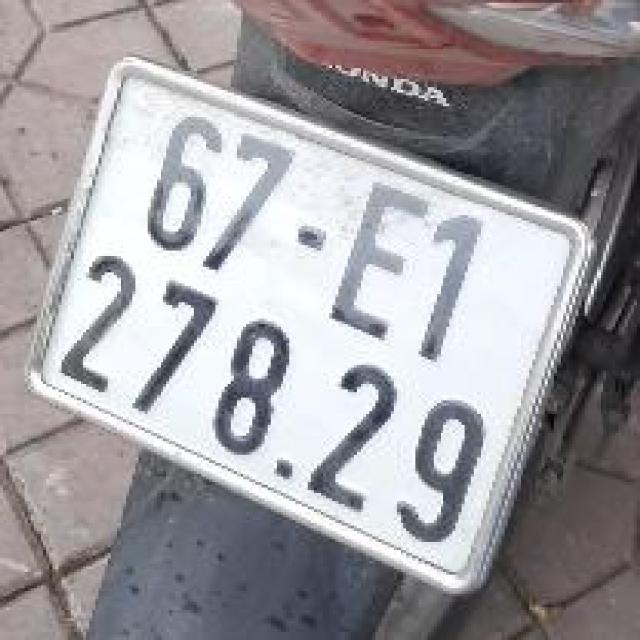1: (391, 192, 508, 379)
2: (293, 341, 423, 528), (48, 245, 155, 412)
6: (126, 99, 236, 266)
7: (191, 120, 314, 294), (113, 263, 233, 430)
8: (192, 294, 314, 473)
9: (383, 370, 506, 566)
E: (316, 166, 441, 359)
